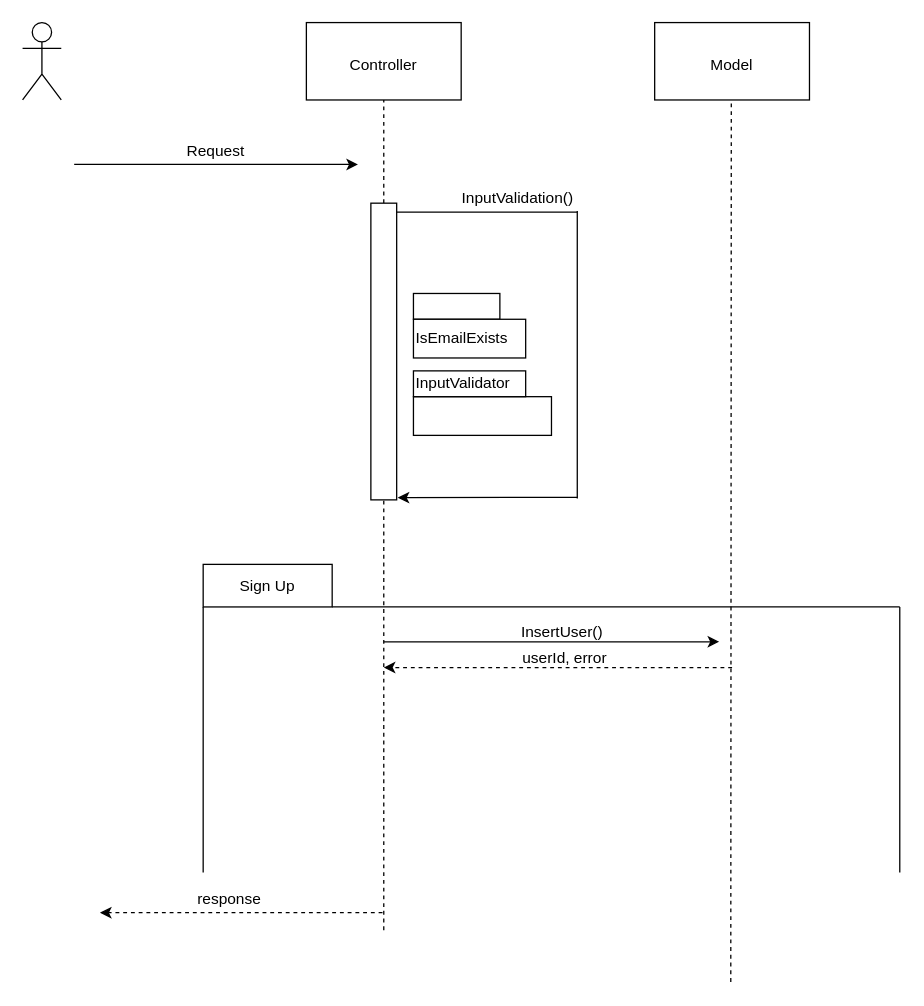
The diagram is 924 pixels wide and 1006 high, and some of its shapes have lost their labels. The centre of each missing label's shape, as x and y in pixels:
"Actor" goes at point (41, 60).
"string, lang, Maxlength" goes at point (481, 415).
"User" goes at point (456, 305).
